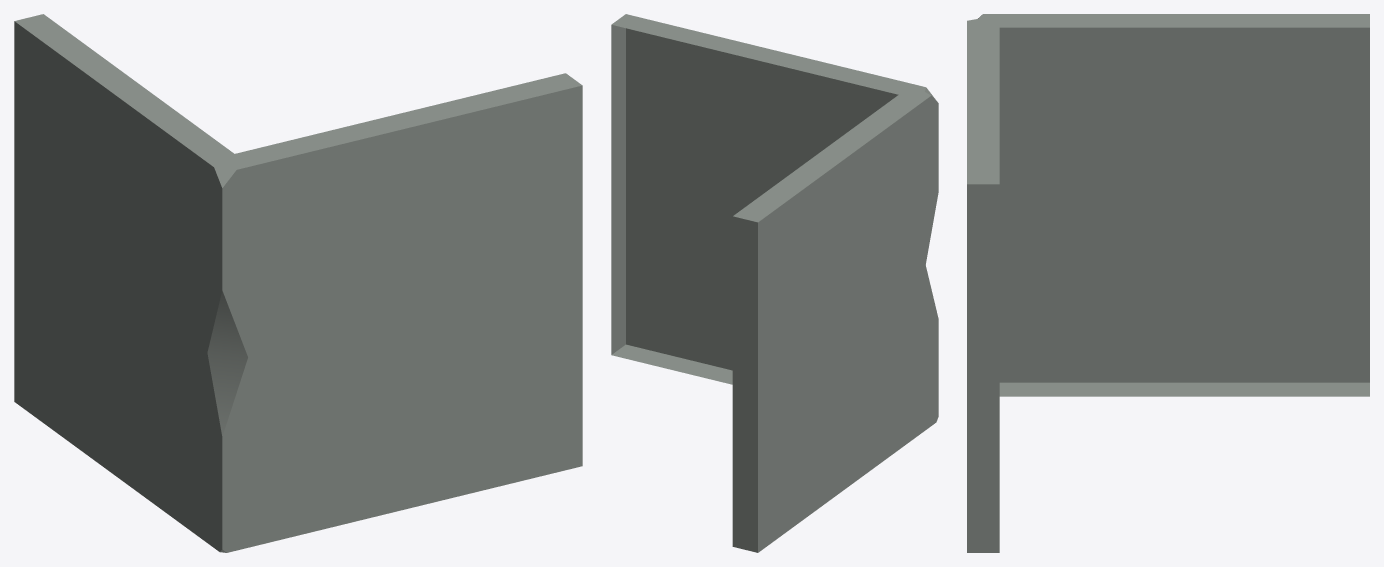
The model's file is SM_Env_Wall_29.fbx.
3 views of the same model, side by side, from view 1: azimuth 30°, elevation 25°; view 2: azimuth 150°, elevation 25°; view 3: azimuth 270°, elevation 25° (orthographic). The views are drawn at different scales.
Parts seen in each view (by area): view 1: SM_Env_Wall_29; view 2: SM_Env_Wall_29; view 3: SM_Env_Wall_29.
Part boxes in pixels (left/top/right/bottom): SM_Env_Wall_29: left=14, top=14, right=582, bottom=552; SM_Env_Wall_29: left=611, top=14, right=938, bottom=552; SM_Env_Wall_29: left=967, top=14, right=1369, bottom=552.
Bounding box in the file's own units: 141 × 142 × 141.
1 material, 1 textured.
